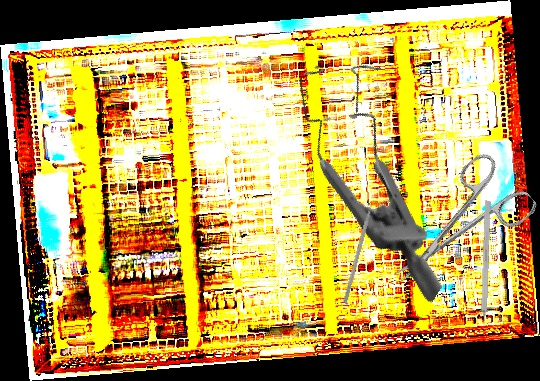Chopper: (342, 194, 382, 306)
Hook Surgical: (480, 200, 491, 338)
Iris Scissors: (371, 146, 540, 306)
Speculum: (236, 34, 524, 305)
